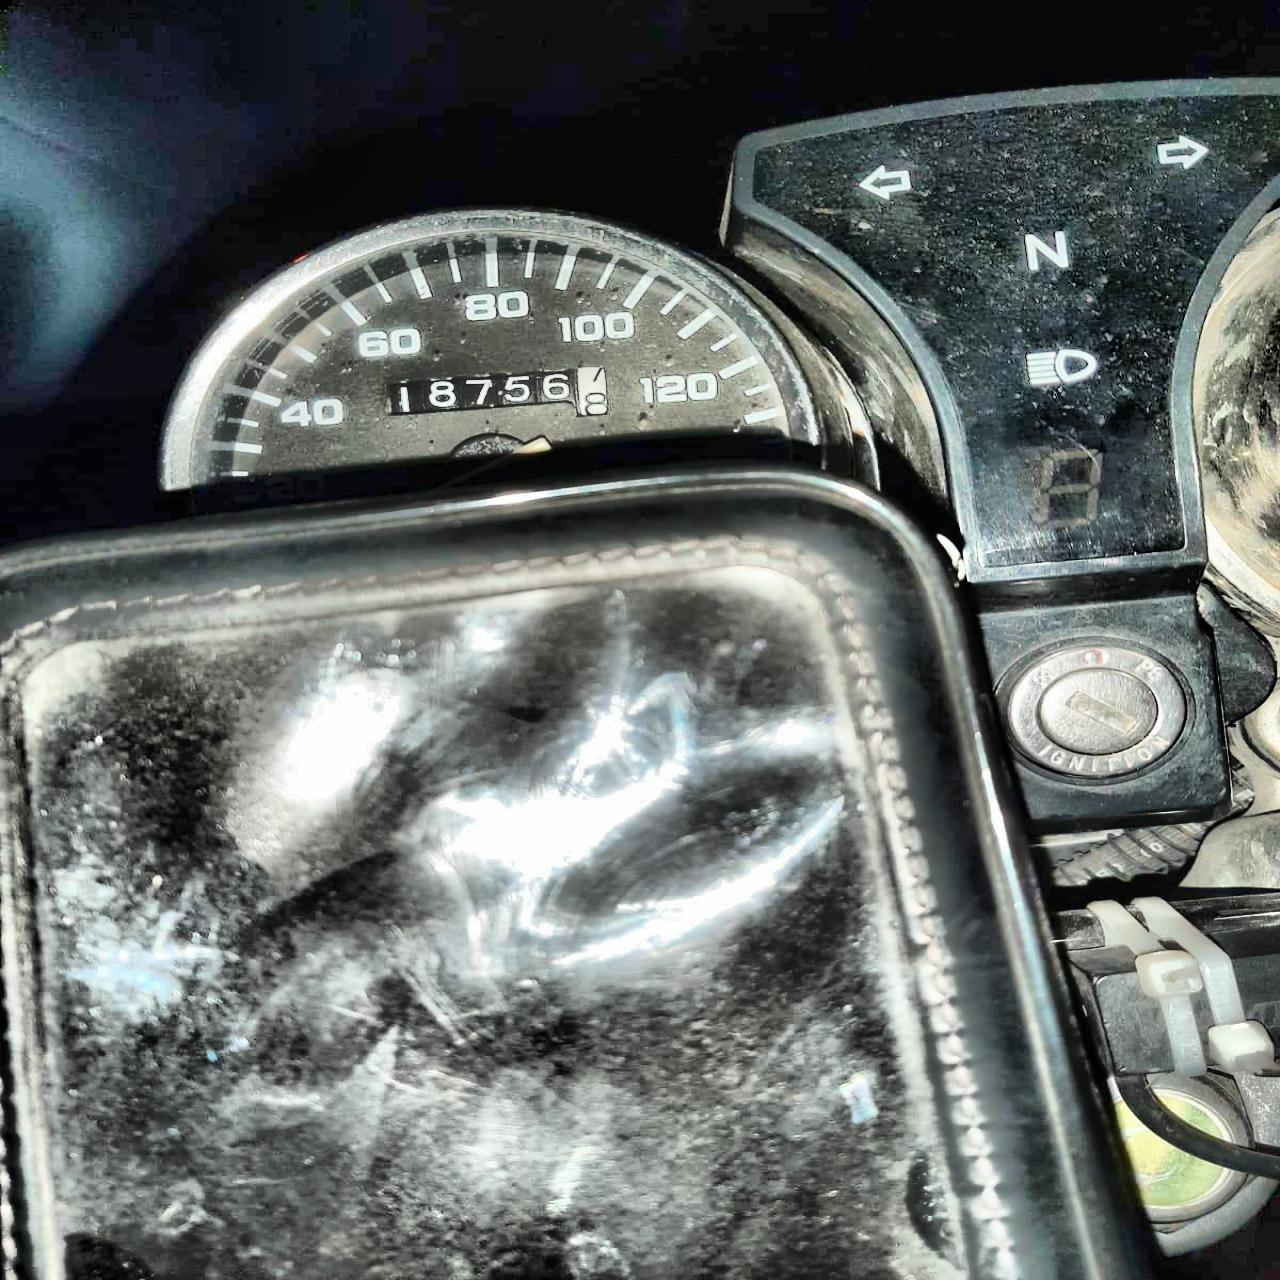1: (395, 381, 413, 417)
5: (504, 372, 530, 402)
6: (543, 369, 571, 401)
7: (465, 376, 495, 406)
8: (577, 389, 611, 421), (427, 377, 457, 413)
odometer: (379, 363, 632, 428)
